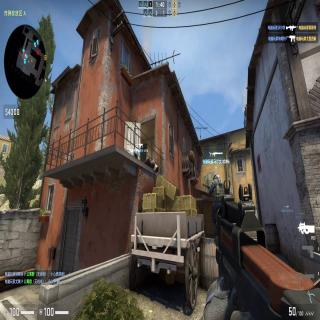CT-Head: (212, 173, 220, 180)
